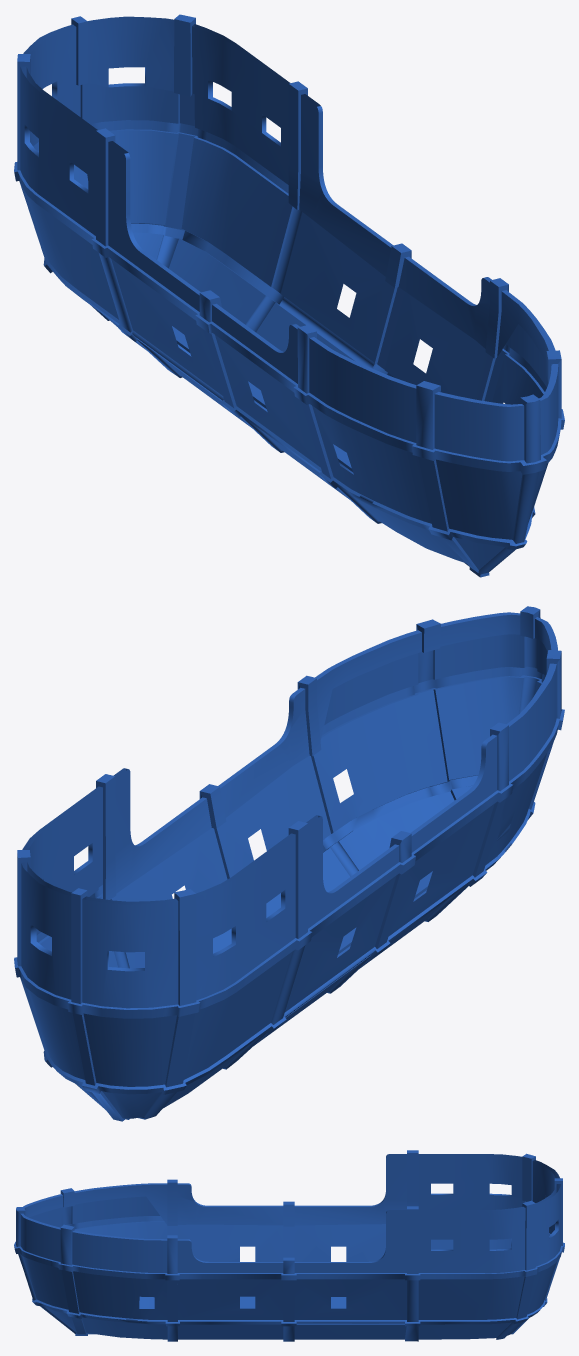
The model's file is ShipBodyV2.fbx.
3 views of the same model, one above another, from view 1: azimuth 30°, elevation 25°; view 2: azimuth 150°, elevation 25°; view 3: azimuth 270°, elevation 25° (orthographic). The views are drawn at different scales.
Visible parts, largest first — view 1: StylShip_Body; view 2: StylShip_Body; view 3: StylShip_Body.
Part boxes in pixels (left/top/right/bottom): StylShip_Body: left=14, top=14, right=564, bottom=577; StylShip_Body: left=14, top=606, right=564, bottom=1121; StylShip_Body: left=14, top=1150, right=564, bottom=1341.
Size of the model in its own units: 1120 by 1338 by 4311.
